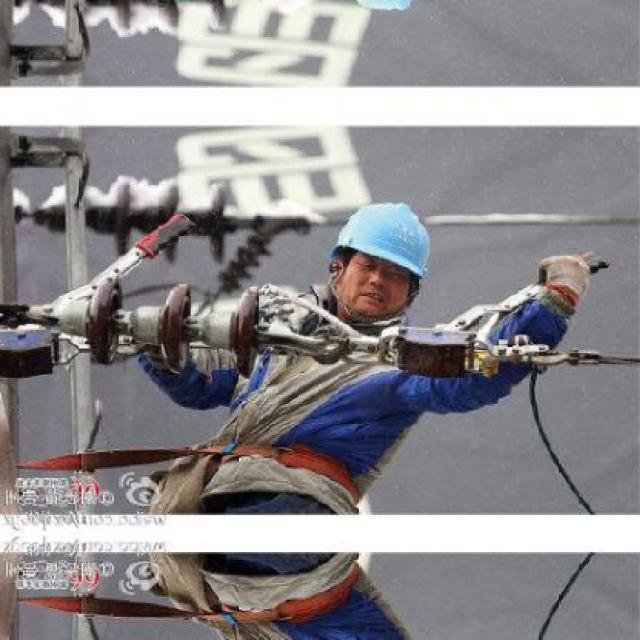safetyhelmet: (323, 201, 440, 299)
